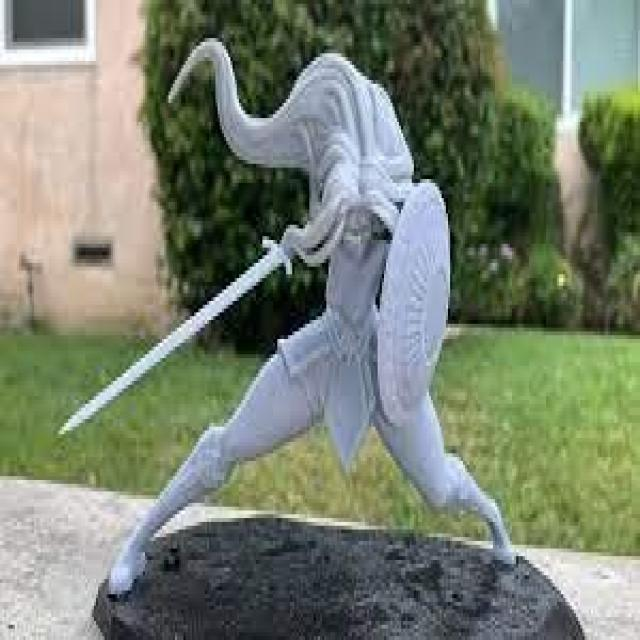Without deffect: (46, 25, 536, 619)
